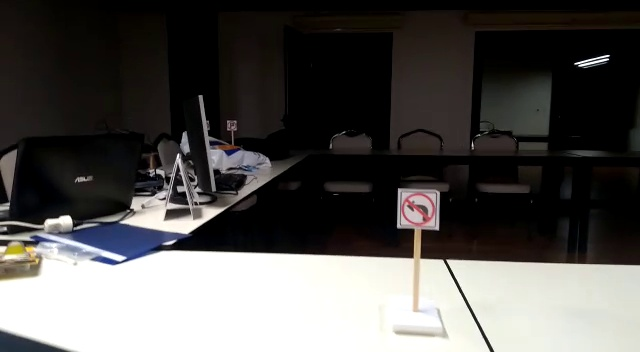sola_donulmez: (397, 185, 438, 230)
